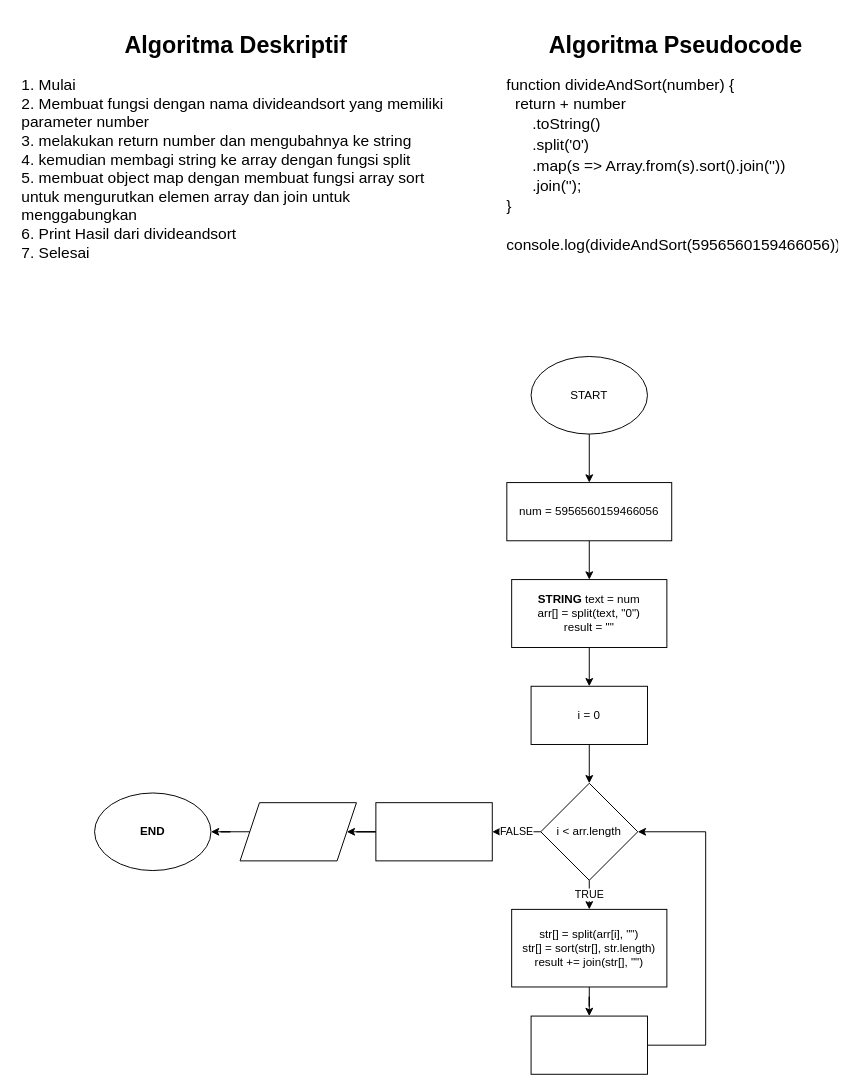
The diagram is 860 pixels wide and 1091 high, and some of its shapes have lost their labels. The shapes that lost their labels are listed below. From the top down, each one's box as (x1, y1, x2, y2) in pixels, then its label:
(239, 802, 356, 861): OUTPUT fin
(375, 802, 492, 861): NUMBER fin = result
(530, 1015, 647, 1074): i++
